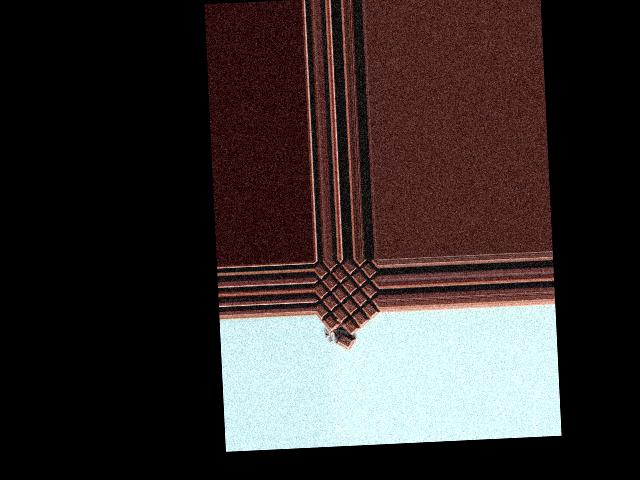chocolate: (314, 257, 378, 342)
